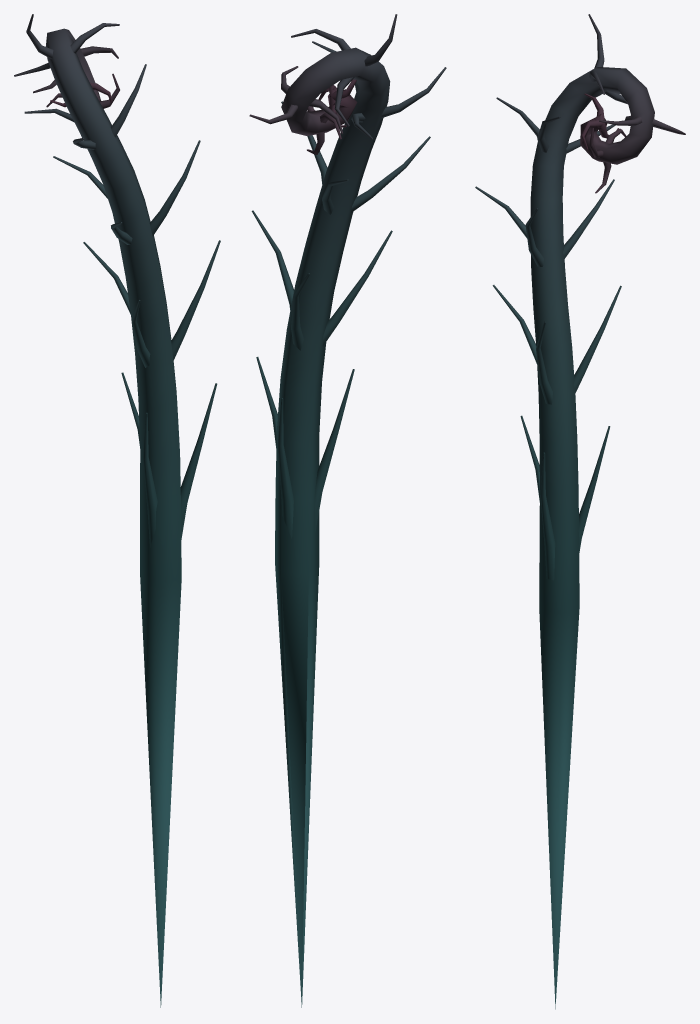
File: plants-bushes-twigs-thorny-tendril_v7.fbx
3 renders of one model, left to right at view 1: azimuth 30°, elevation 25°; view 2: azimuth 150°, elevation 25°; view 3: azimuth 270°, elevation 25°, orthographic. The views are drawn at different scales.
Parts seen in each view (by area): view 1: Thorny Tendril_v7; view 2: Thorny Tendril_v7; view 3: Thorny Tendril_v7.
Boxes of the visible parts, x1,y1,x2,y2 form: Thorny Tendril_v7: (14,14,220,1007); Thorny Tendril_v7: (249,14,446,1007); Thorny Tendril_v7: (475,14,685,1009).
Bounding box in the file's own units: 0.0857 × 0.5 × 0.101.
